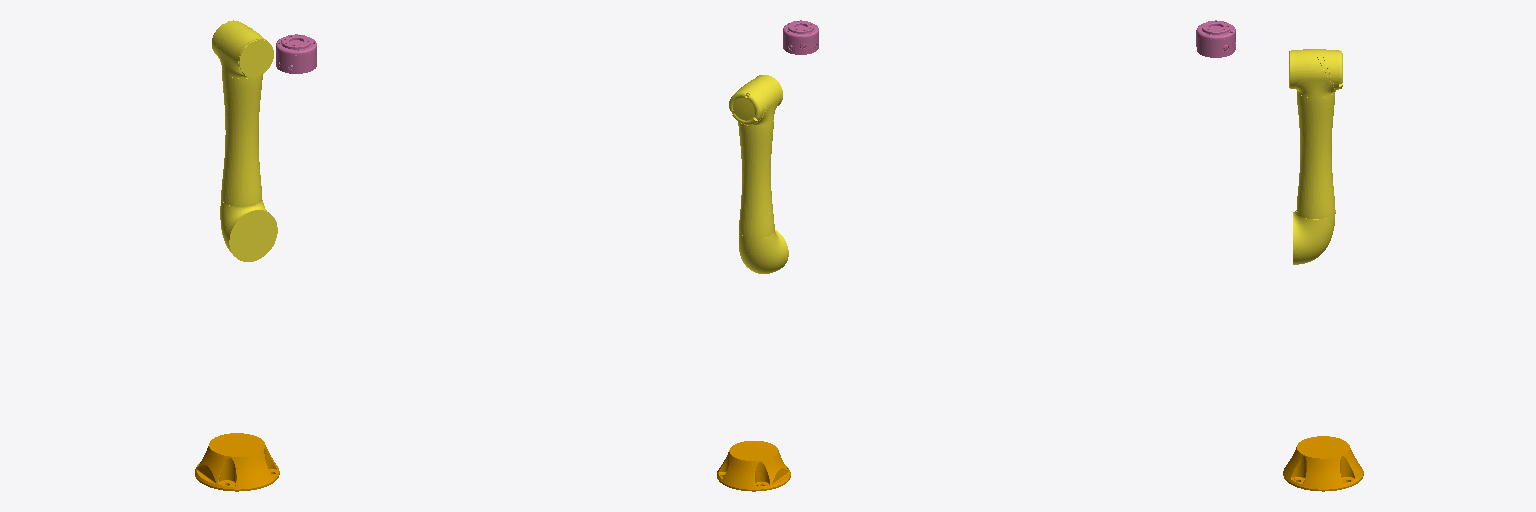
The robot description file, URDF, robot "tm5-900":
<?xml version='1.0' encoding='UTF-8'?>
<robot name="tm5-900">
  <link name="link_0">
    <visual>
      <geometry>
        <mesh filename="package://tmr_description/meshes/tm5x-900/visual/tm5_base.obj" />
      </geometry>
    </visual>
    <collision>
      <geometry>
        <mesh filename="package://tmr_description/meshes/tm5x-900/collision/tm5_base_c.stl" />
      </geometry>
    </collision>
  </link>
  <joint name="joint_1" type="revolute">
    <parent link="link_0" />
    <child link="link_1" />
    <origin rpy="0.000000 -0.000000 -0.000018" xyz="0.000000 0.000000 0.145100" />
    <axis xyz="0 0 1" />
    <limit effort="100.0" lower="-4.8346" upper="4.8346" velocity="1.0" />
  </joint>
  <link name="link_1">
    <visual>
      <geometry>
        <mesh filename="package://tmr_description/meshes/tm5x-900/visual/tmr_400w_01.obj" />
      </geometry>
    </visual>
    <collision>
      <geometry>
        <mesh filename="package://tmr_description/meshes/tm5x-900/collision/tmr_400w_01_c.stl" />
      </geometry>
    </collision>
  </link>
  <joint name="joint_2" type="revolute">
    <parent link="link_1" />
    <child link="link_2" />
    <origin rpy="-1.208300 -1.569562 -0.362515" xyz="0.000010 0.000068 0.000000" />
    <axis xyz="0 0 1" />
    <limit effort="100.0" lower="-3.2638" upper="3.2638" velocity="1.0" />
  </joint>
  <link name="link_2">
    <visual>
      <geometry>
        <mesh filename="package://tmr_description/meshes/tm5x-900/visual/tm5-900_arm1.obj" />
      </geometry>
    </visual>
    <collision>
      <geometry>
        <mesh filename="package://tmr_description/meshes/tm5x-900/collision/tm5-900_arm1_c.stl" />
      </geometry>
    </collision>
  </link>
  <joint name="joint_3" type="revolute">
    <parent link="link_2" />
    <child link="link_3" />
    <origin rpy="0.005376 -0.000593 0.006547" xyz="0.429029 -0.000000 0.000068" />
    <axis xyz="0 0 1" />
    <limit effort="100.0" lower="-2.8274" upper="2.8274" velocity="1.0" />
  </joint>
  <link name="link_3">
    <visual>
      <geometry>
        <mesh filename="package://tmr_description/meshes/tm5x-900/visual/tm5-900_arm2.obj" />
      </geometry>
    </visual>
    <collision>
      <geometry>
        <mesh filename="package://tmr_description/meshes/tm5x-900/collision/tm5-900_arm2_c.stl" />
      </geometry>
    </collision>
  </link>
  <joint name="joint_4" type="revolute">
    <parent link="link_3" />
    <child link="link_4" />
    <origin rpy="-0.001062 -0.001154 1.571161" xyz="0.411623 0.000141 -0.122132" />
    <axis xyz="0 0 1" />
    <limit effort="10.0" lower="-3.2638" upper="3.2638" velocity="1.0" />
  </joint>
  <link name="link_4">
    <visual>
      <geometry>
        <mesh filename="package://tmr_description/meshes/tm5x-900/visual/tmr_100w_01.obj" />
      </geometry>
    </visual>
    <collision>
      <geometry>
        <mesh filename="package://tmr_description/meshes/tm5x-900/collision/tmr_100w_01_c.stl" />
      </geometry>
    </collision>
  </link>
  <joint name="joint_5" type="revolute">
    <parent link="link_4" />
    <child link="link_5" />
    <origin rpy="1.571314 -0.001443 0.000362" xyz="-0.000095 -0.106061 -0.000055" />
    <axis xyz="0 0 1" />
    <limit effort="10.0" lower="-3.2638" upper="3.2638" velocity="1.0" />
  </joint>
  <link name="link_5">
    <visual>
      <geometry>
        <mesh filename="package://tmr_description/meshes/tm5x-900/visual/tmr_100w_02.obj" />
      </geometry>
    </visual>
    <collision>
      <geometry>
        <mesh filename="package://tmr_description/meshes/tm5x-900/collision/tmr_100w_02_c.stl" />
      </geometry>
    </collision>
  </link>
  <joint name="joint_6" type="revolute">
    <parent link="link_5" />
    <child link="link_6" />
    <origin rpy="1.571355 -0.011670 0.001437" xyz="0.000183 -0.114320 -0.000064" />
    <axis xyz="0 0 1" />
    <limit effort="10.0" lower="-4.8346" upper="4.8346" velocity="1.0" />
  </joint>
  <link name="link_6">
    <visual>
      <geometry>
        <mesh filename="package://tmr_description/meshes/tm5x-900/visual/tm5x_ee.obj" />
      </geometry>
    </visual>
    <collision>
      <geometry>
        <mesh filename="package://tmr_description/meshes/tm5x-900/collision/tm5x_ee_c.stl" />
      </geometry>
    </collision>
  </link>
  <link name="base" />
  <joint name="base_fixed_joint" type="fixed">
    <parent link="base" />
    <child link="link_0" />
    <origin rpy="0.0 0.0 0.0" xyz="0.0 0.0 0.0" />
  </joint>
  <link name="flange" />
  <joint name="flange_fixed_joint" type="fixed">
    <parent link="link_6" />
    <child link="flange" />
    <origin rpy="0.012173 0.024881 0.000303" xyz="-0.000179 0.000000 0.000000" />
  </joint>
</robot>

--- Render facts (derived) ---
The picture shows the robot from 3 angles, left to right: view 1: azimuth 30°, elevation 25°; view 2: azimuth 150°, elevation 25°; view 3: azimuth 270°, elevation 25°; orthographic projection.
Robot: tm5-900 — 9 links, 8 joints (6 revolute, 2 fixed); root link base; default pose: every joint at zero.
Links seen in each view (by area): view 1: link_3, link_0, link_6; view 2: link_3, link_0, link_6; view 3: link_3, link_0, link_6.
Boxes of the visible links, bbox=[...] form: link_3: bbox=[212, 20, 277, 261]; link_0: bbox=[195, 433, 279, 491]; link_6: bbox=[276, 34, 316, 73]; link_3: bbox=[729, 75, 788, 273]; link_0: bbox=[717, 441, 790, 491]; link_6: bbox=[783, 20, 818, 54]; link_3: bbox=[1289, 49, 1342, 264]; link_0: bbox=[1283, 436, 1363, 491]; link_6: bbox=[1196, 20, 1235, 57].
Bounding box of the posed robot: 0.177 × 0.3682 × 1.09 m (x, y, z).
3 mesh visuals loaded from 7 distinct referenced files (3 OBJ); not drawn: 4 (reference not matched to a file when rendering).